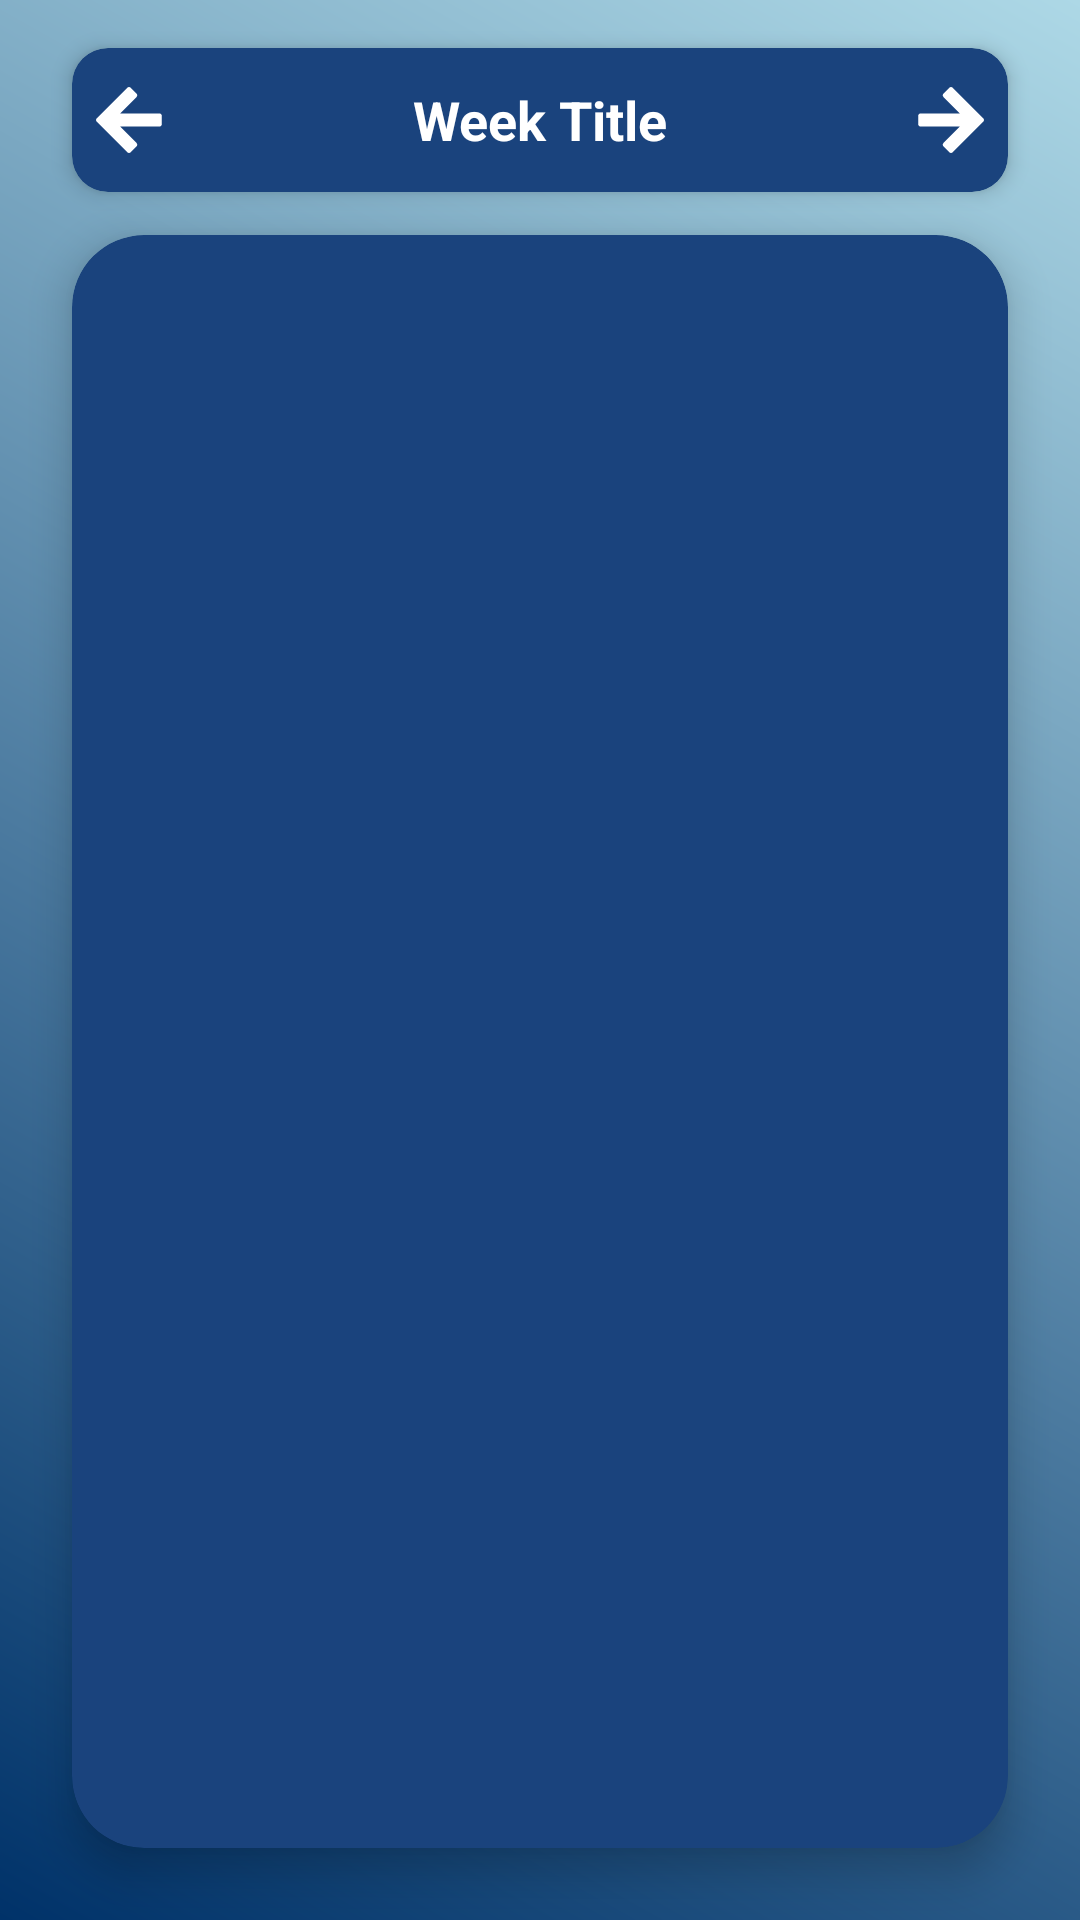

Icon bounding boxes for this 1080*1920 phone screenshot, format (x1, y1, x2, y2):
arrow left: (96, 87, 162, 153)
arrow right: (918, 87, 984, 153)
